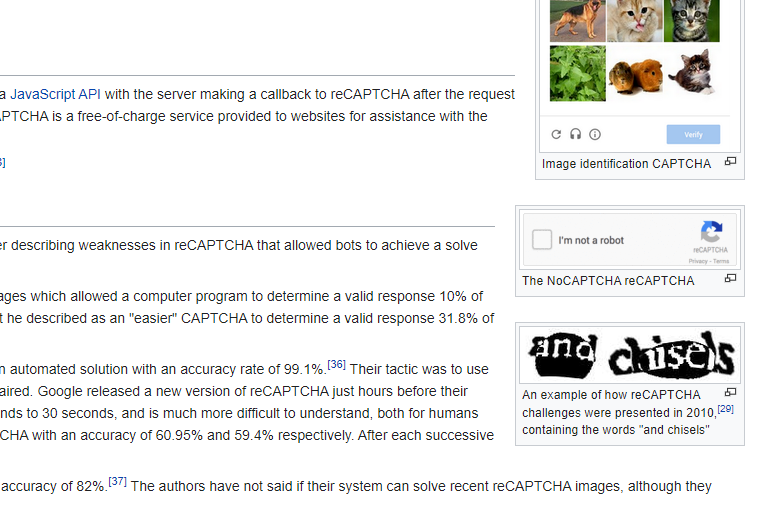captcha: (520, 210, 739, 269)
